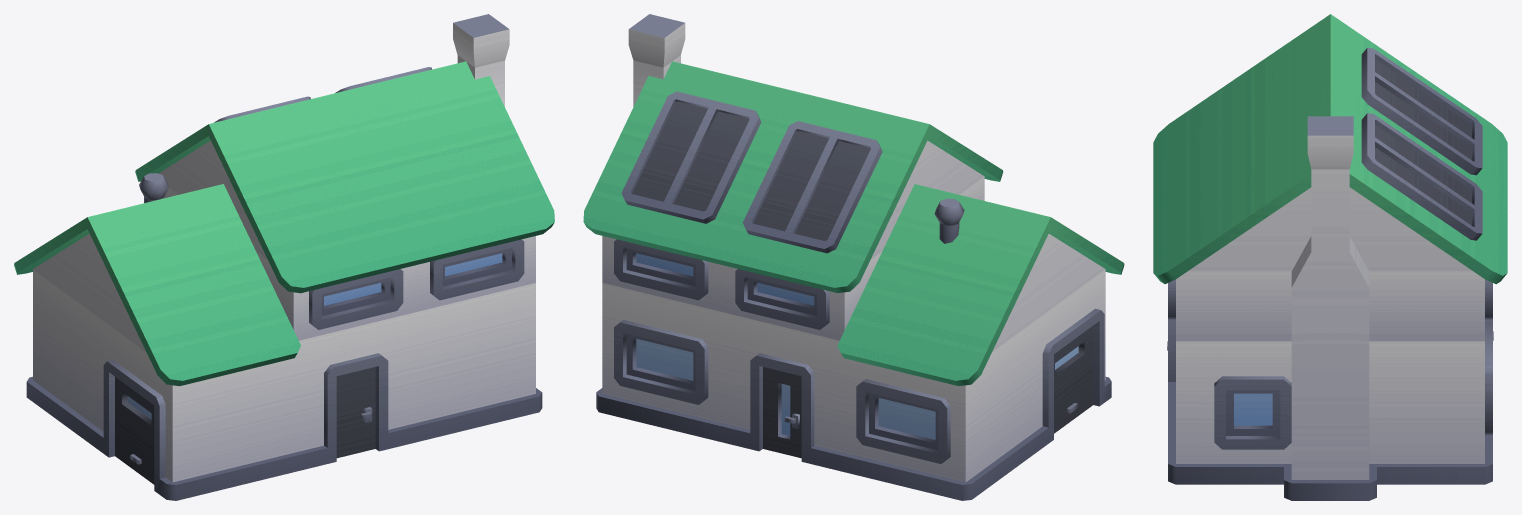
The model's file is building-type-j.glb.
3 renders of one model, left to right at view 1: azimuth 30°, elevation 25°; view 2: azimuth 150°, elevation 25°; view 3: azimuth 270°, elevation 25°, orthographic. The views are drawn at different scales.
Parts seen in each view (by area): view 1: building-type-j; view 2: building-type-j; view 3: building-type-j.
Part boxes in pixels (x1,y1,x2,y2): building-type-j: (14,14,554,500); building-type-j: (583,14,1124,500); building-type-j: (1153,14,1507,500).
Bounding box in the file's own units: 1.37 × 1.04 × 0.9162.
1 material, 1 textured.
